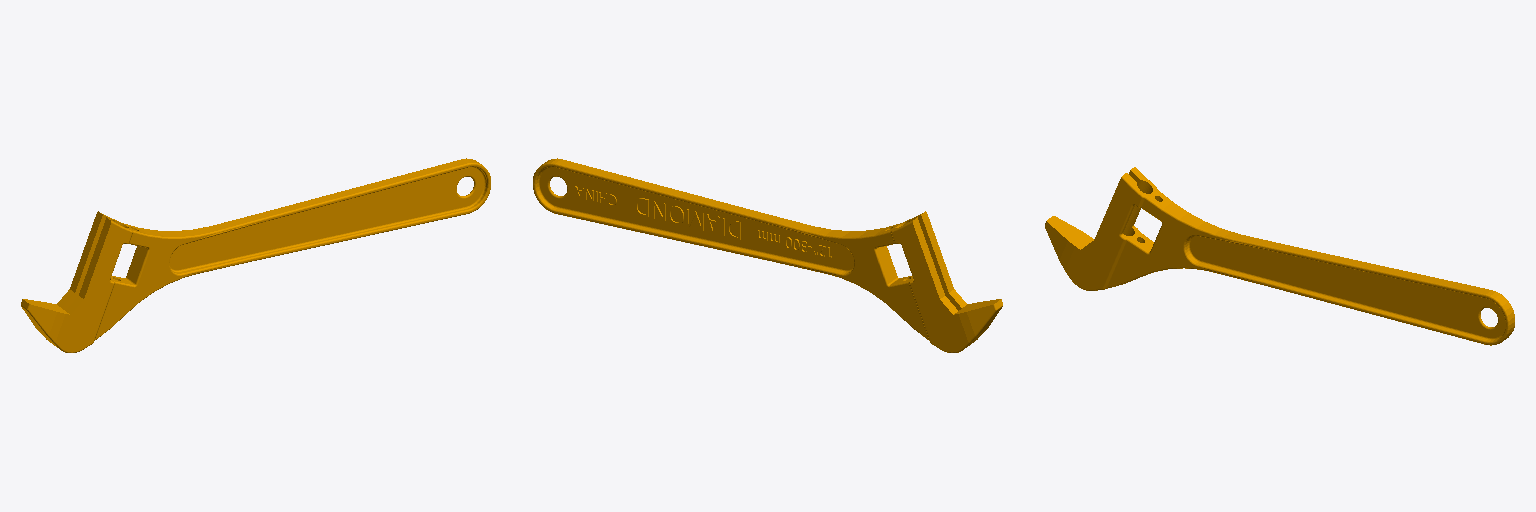
robot.urdf — wrench_3_L0.55_T0.57:
<?xml version="1.0" encoding="utf-8"?>
<robot name="wrench_3_L0.55_T0.57">
  <link name="wrench_3_L0.55_T0.57Link">
    <contact>
      <lateral_friction value="1"/>
    </contact>
    <inertial>
      <origin rpy="0 0 0" xyz="0 0 0"/>
      <mass value="0.0"/>
      <inertia ixx="0" ixy="0" ixz="0" iyy="0" iyz="0" izz="0"/>
    </inertial>
    <visual>
      <origin rpy="0 0 0" xyz="0 0 0"/>
      <geometry>
        <mesh filename="generated_stl/wrench/wrench_3/wrench_3_L0.55_T0.57/wrench_3_L0.55_T0.57.stl" scale="0.01 0.01 0.01"/>
      </geometry>
    </visual>
    <collision>
      <origin rpy="0 0 0" xyz="0 0 0"/>
      <geometry>
        <mesh filename="generated_stl/wrench/wrench_3/wrench_3_L0.55_T0.57/wrench_3_L0.55_T0.57.stl" scale="0.01 0.01 0.01"/>
      </geometry>
    </collision>
  </link>
</robot>

--- What the picture shows (computed from the rendered views, not written in the file) ---
3 views of the same robot in one strip: view 1: azimuth 30°, elevation 25°; view 2: azimuth 150°, elevation 25°; view 3: azimuth 330°, elevation 25° (orthographic).
Model wrench_3_L0.55_T0.57 with 1 links and 0 joints (none), rooted at wrench_3_L0.55_T0.57Link, posed every joint at zero.
Links seen in each view (by area): view 1: wrench_3_L0.55_T0.57Link; view 2: wrench_3_L0.55_T0.57Link; view 3: wrench_3_L0.55_T0.57Link.
Boxes of the visible links, left/top/right/bottom form: wrench_3_L0.55_T0.57Link: left=21, top=158, right=490, bottom=352; wrench_3_L0.55_T0.57Link: left=533, top=158, right=1002, bottom=352; wrench_3_L0.55_T0.57Link: left=1045, top=167, right=1514, bottom=345.
Size in the robot's own frame: 0.0439 by 0.0023 by 0.0111 metres.
Meshes: 1 distinct files referenced, 1 mesh visuals loaded (1 binary STL).